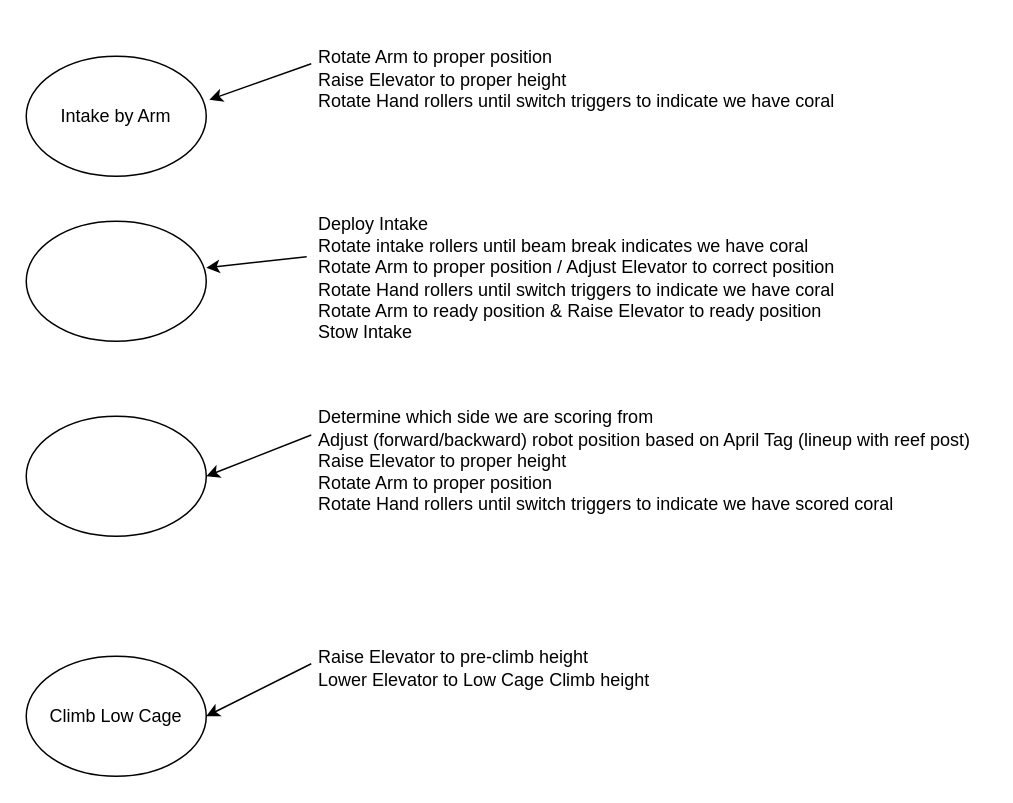
Some shapes in this 1013 by 803 pixel diagram are drawn without their labels. The box of each missing label's shape, as (x1, y1, x2, y2) in pixels:
Intake: (25, 220, 206, 341)
Place Coral L4: (25, 415, 206, 536)
